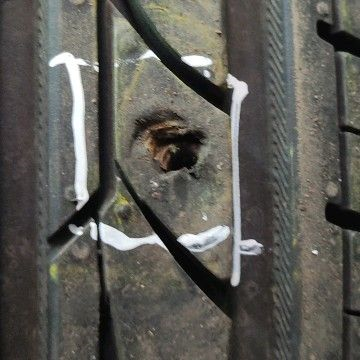tr: (125, 106, 209, 174)
